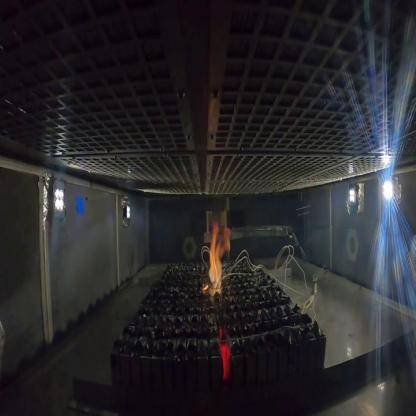fire: (206, 215, 234, 293)
